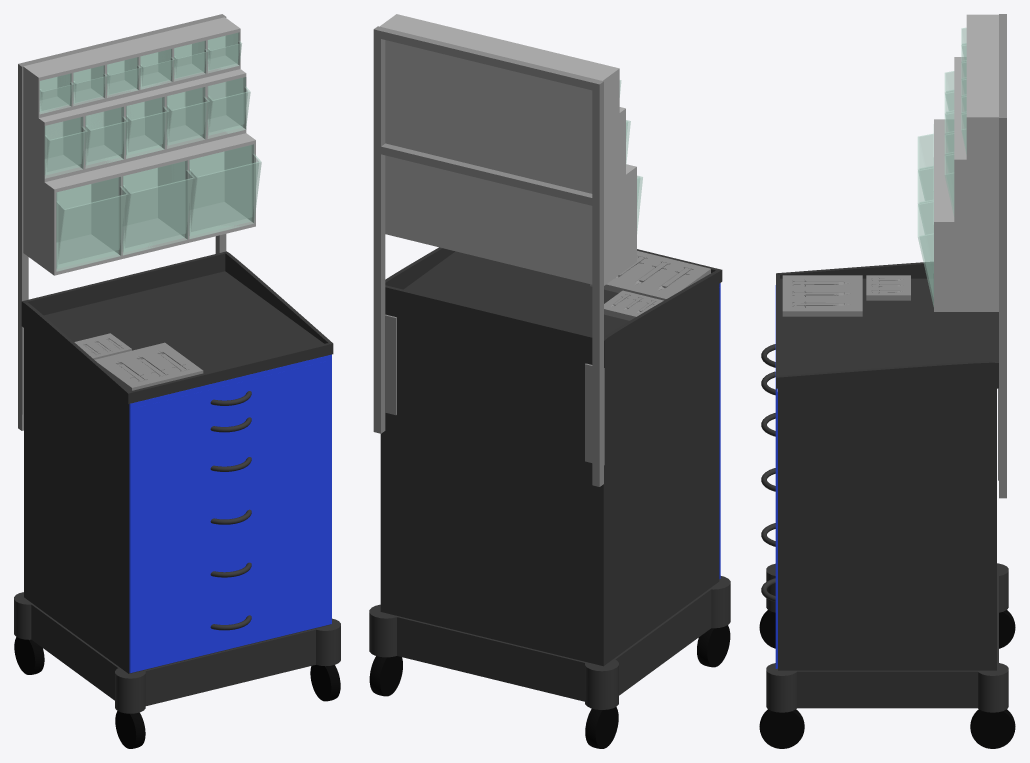
Rendered from Anethesia Cart v2.3.FBX.
The picture shows the model from 3 angles, left to right: view 1: azimuth 30°, elevation 25°; view 2: azimuth 150°, elevation 25°; view 3: azimuth 270°, elevation 25°; orthographic projection. The views are drawn at different scales.
Visible parts, largest first — view 1: DrawerContainerTop, DrawerContainer, TopWorkspace, BottomSupport, DrawerB02, DrawerB03, DrawerB01, DrawerB04, DrawerTB01, DrawerTB03, DrawerTB02, DrawerS01 (+19 smaller); view 2: DrawerContainer, DrawerContainerTop, TopWorkspace, DrawerContainerTopHolder, BottomSupport, SyringeContainerLarge, Wheel01, Wheel04, Wheel02, SyringeContainerSmall; view 3: DrawerContainer, TopWorkspace, DrawerContainerTop, BottomSupport, DrawerContainerTopHolder, SyringeContainerLarge, Wheel03, Wheel04, DrawerTB03, SyringeContainerSmall, DrawerTB01, DrawerTB02 (+3 smaller).
Boxes of the visible parts, left/top/right/bottom form: DrawerContainerTop: left=23, top=17, right=255, bottom=275; DrawerContainer: left=24, top=328, right=330, bottom=673; TopWorkspace: left=21, top=251, right=333, bottom=403; BottomSupport: left=14, top=592, right=340, bottom=713; DrawerB02: left=129, top=465, right=331, bottom=567; DrawerB03: left=129, top=518, right=331, bottom=620; DrawerB01: left=129, top=413, right=331, bottom=514; DrawerB04: left=129, top=571, right=331, bottom=673; DrawerTB01: left=56, top=177, right=128, bottom=271; DrawerTB03: left=189, top=144, right=261, bottom=238; DrawerTB02: left=122, top=160, right=195, bottom=255; DrawerS01: left=129, top=360, right=331, bottom=435; DrawerContainer: left=380, top=284, right=719, bottom=666; DrawerContainerTop: left=380, top=14, right=636, bottom=285; TopWorkspace: left=385, top=247, right=722, bottom=367; DrawerContainerTopHolder: left=373, top=26, right=604, bottom=486; BottomSupport: left=369, top=576, right=730, bottom=709; SyringeContainerLarge: left=590, top=250, right=710, bottom=300; Wheel01: left=585, top=707, right=618, bottom=748; Wheel04: left=369, top=656, right=402, bottom=696; Wheel02: left=697, top=625, right=730, bottom=667; SyringeContainerSmall: left=604, top=290, right=663, bottom=320; DrawerContainer: left=778, top=388, right=996, bottom=670; TopWorkspace: left=776, top=262, right=998, bottom=388; DrawerContainerTop: left=934, top=14, right=998, bottom=311; BottomSupport: left=766, top=563, right=1008, bottom=712; DrawerContainerTopHolder: left=998, top=14, right=1006, bottom=498; SyringeContainerLarge: left=782, top=275, right=862, bottom=316; Wheel03: left=759, top=709, right=804, bottom=748; Wheel04: left=970, top=709, right=1015, bottom=748; DrawerTB03: left=917, top=192, right=933, bottom=306; SyringeContainerSmall: left=866, top=275, right=910, bottom=300; DrawerTB01: left=917, top=124, right=933, bottom=200; DrawerTB02: left=917, top=158, right=933, bottom=234.
Size of the model in its own units: 66 by 172 by 63.17.
